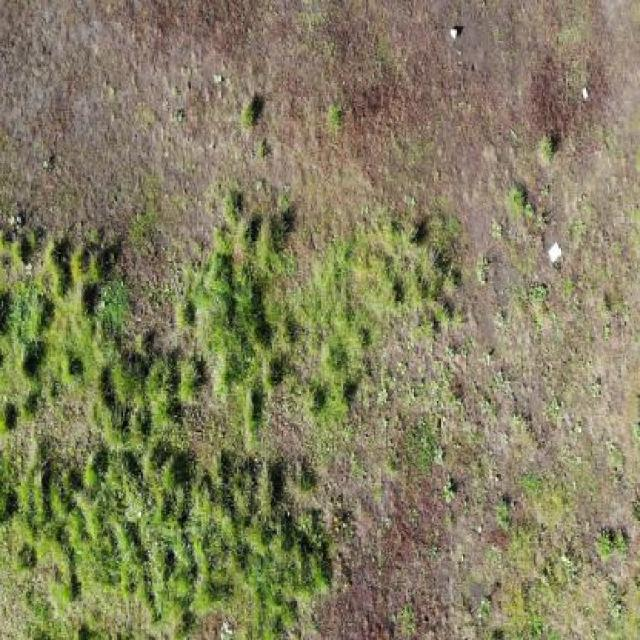Garbage: (548, 243, 562, 264), (510, 128, 519, 140), (582, 87, 589, 100), (450, 30, 458, 40), (341, 79, 344, 85)
